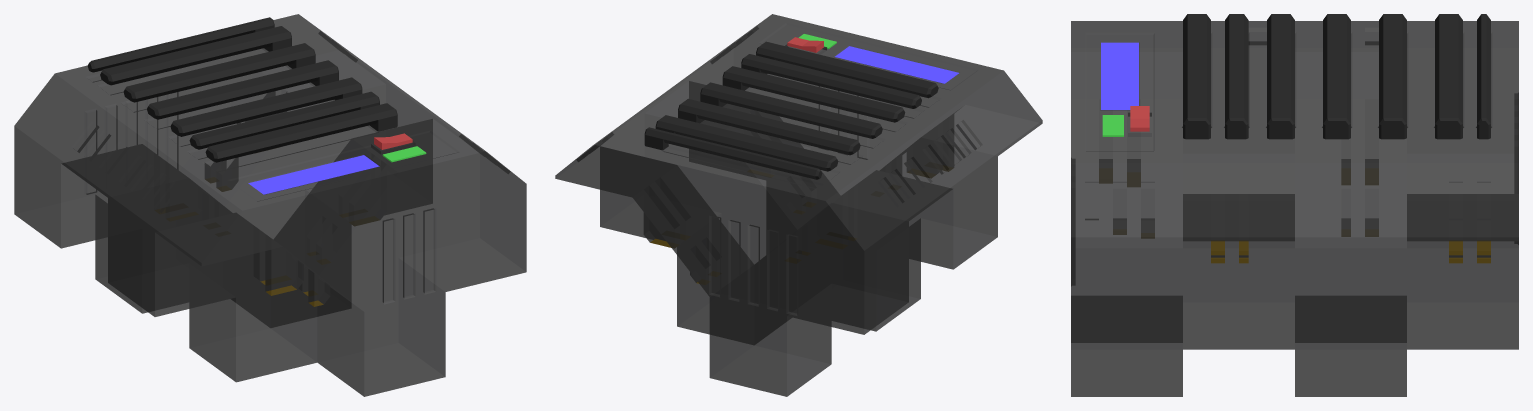
Rendered from attachment009.gltf.
The picture shows the model from 3 angles, left to right: view 1: azimuth 30°, elevation 25°; view 2: azimuth 150°, elevation 25°; view 3: azimuth 270°, elevation 25°; orthographic projection. The views are drawn at different scales.
Parts seen in each view (by area): view 1: Attatchment009; view 2: Attatchment009; view 3: Attatchment009.
Part boxes in pixels (x1,y1,x2,y2): Attatchment009: [14, 14, 526, 396]; Attatchment009: [555, 14, 1042, 396]; Attatchment009: [1071, 14, 1518, 396].
Size of the model in its own units: 0.1 by 0.0685 by 0.1.
